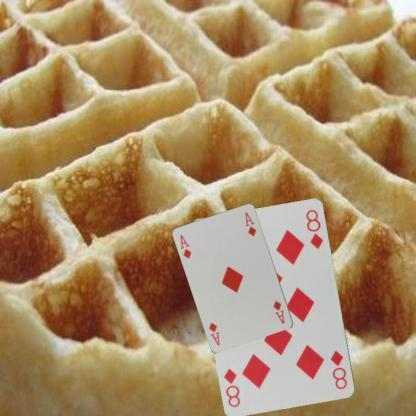8d: (328, 348, 350, 392)
Ad: (177, 232, 193, 260), (270, 298, 286, 325)
